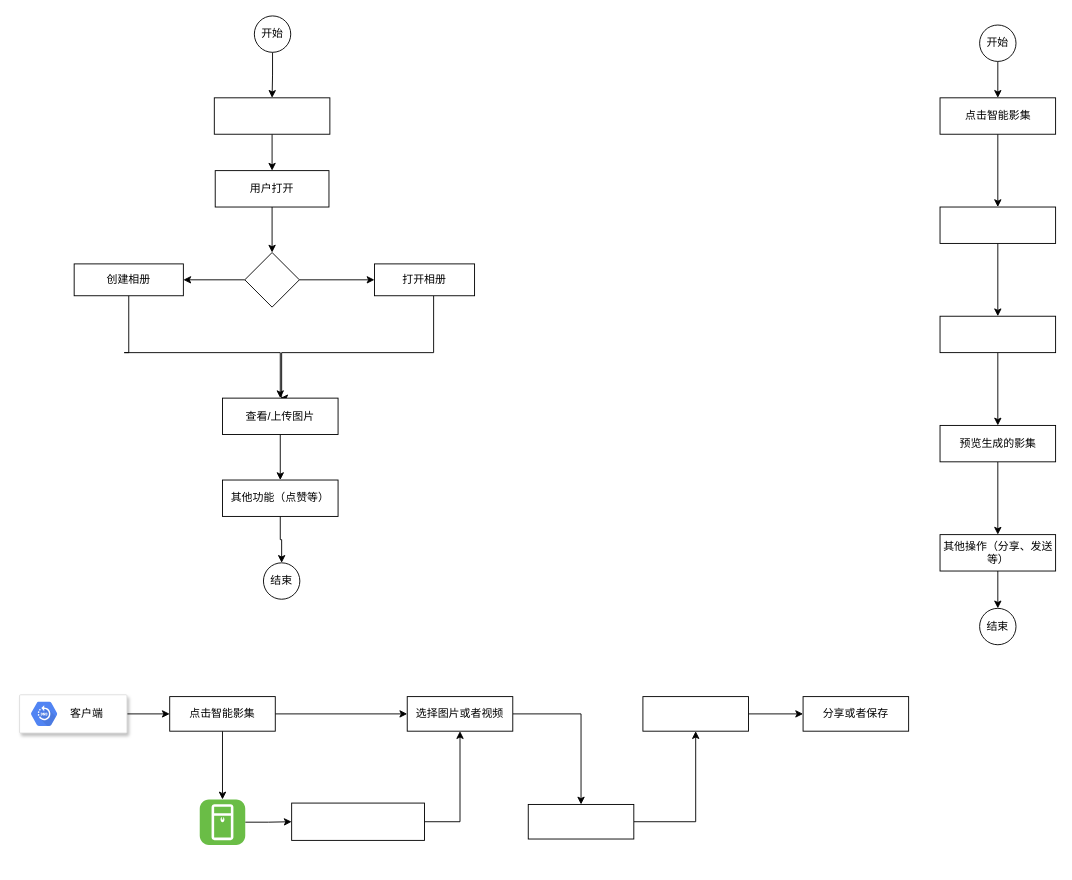
Image size: 1072x880. Some labels were removed from this diagram. Here are the shapes that lost their labels. From the top down, the centre of each, then its label:
point 271,115: 小程序分享到群内
point 997,224: 选择视频或者图片
point 997,334: 生成动感影集
point 695,713: 生成客户端预览
point 222,822: 服务端
point 358,821: 查询历史视频或者图片
point 580,821: 通知服务端生成
